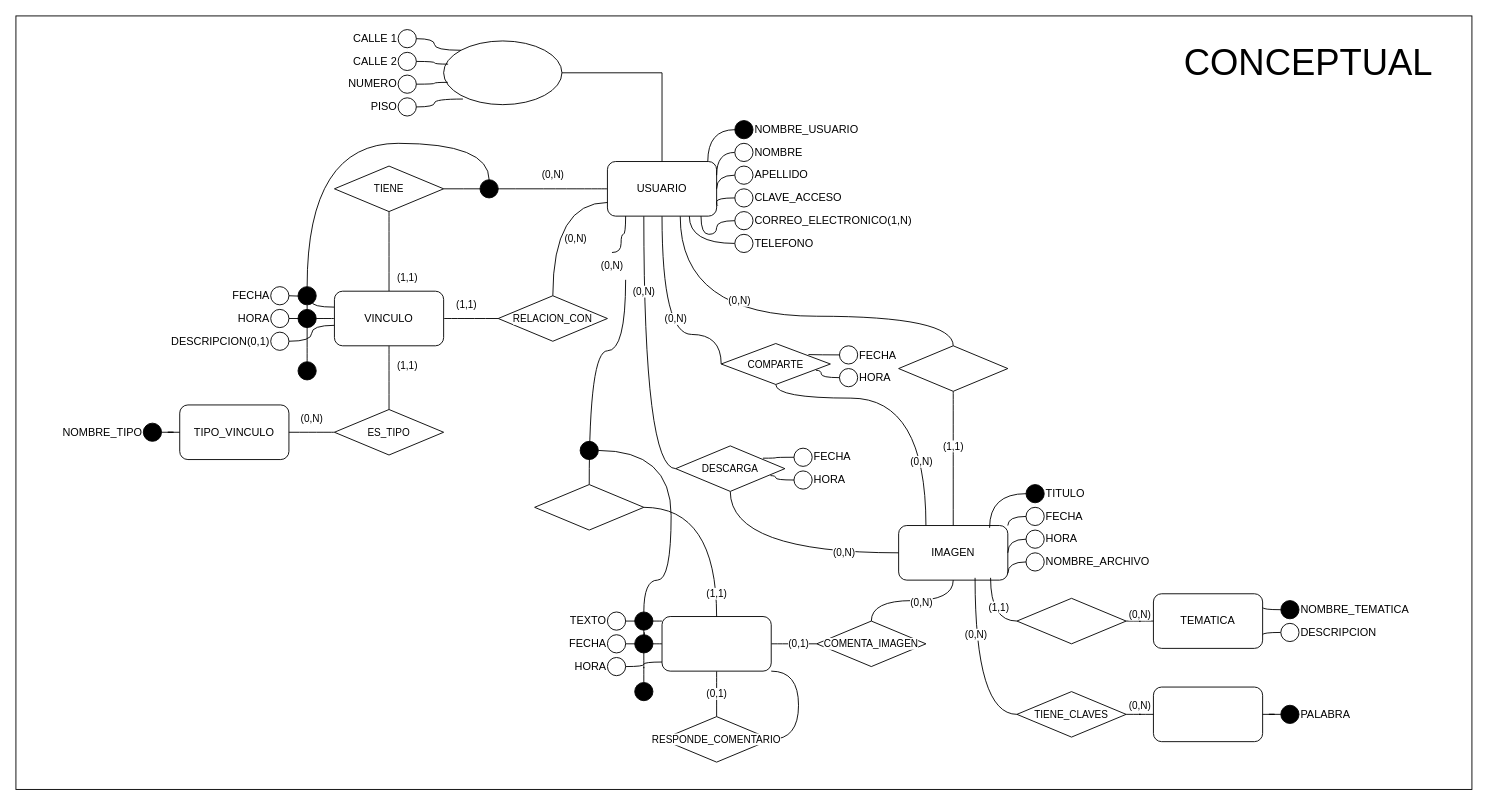
Some shapes in this 1488 by 805 pixel diagram are drawn without their labels. Here are the shapes that lost their labels. From the top down, the centre of each, then its label:
At (502,72): "DIRECCION".
At (953,368): "PUBLICA".
At (589,507): "CREA".
At (1071,620): "TIENE_TEMATICA".
At (716,643): "COMENTARIO".
At (1208,714): "PALABRA_CLAVE".
